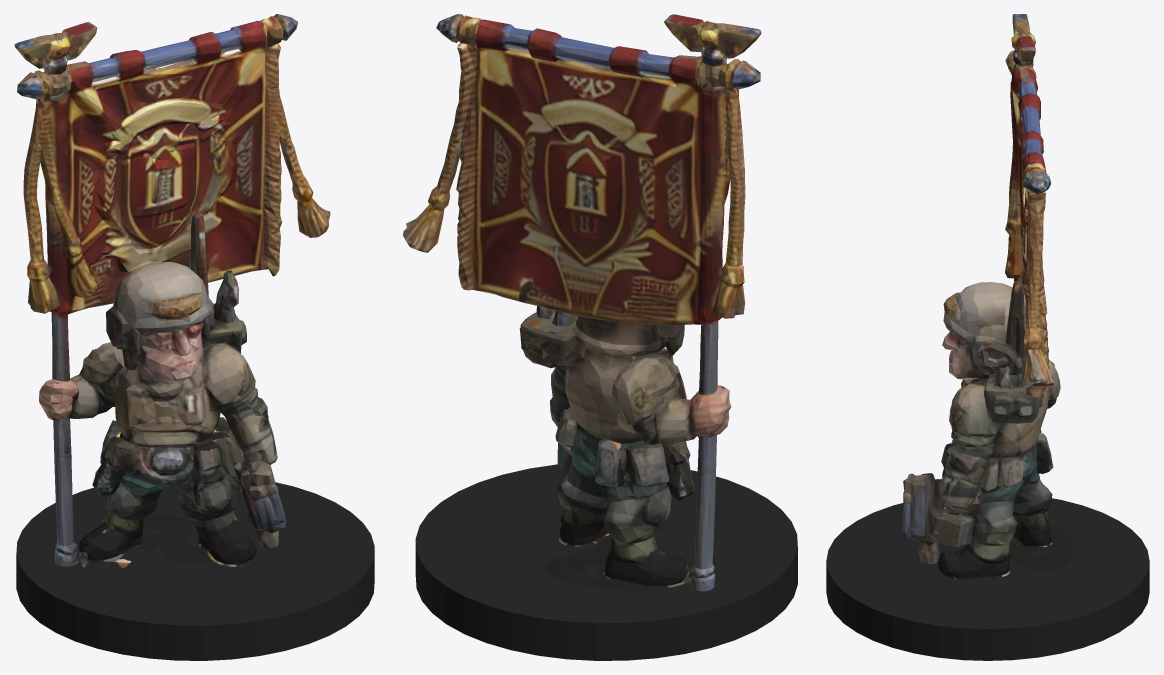
File: cadian-standard-bearer.glb
3 renders of one model, left to right at view 1: azimuth 30°, elevation 25°; view 2: azimuth 150°, elevation 25°; view 3: azimuth 270°, elevation 25°, orthographic. The views are drawn at different scales.
Visible parts, largest first — view 1: figure, base; view 2: figure, base; view 3: figure, base.
Part boxes in pixels (x1=…): figure: x1=14, y1=14, x2=330, y2=572; base: x1=16, y1=482, x2=374, y2=660; figure: x1=403, y1=14, x2=761, y2=591; base: x1=415, y1=464, x2=797, y2=660; figure: x1=901, y1=14, x2=1074, y2=580; base: x1=826, y1=498, x2=1149, y2=660.
Size of the model in its own units: 1.15 by 1.92 by 1.1.
2 materials, 1 textured.
